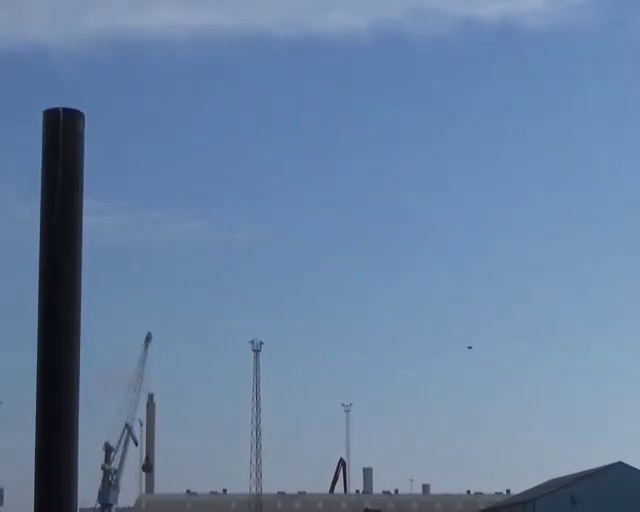BIRD: (466, 345, 473, 350)
